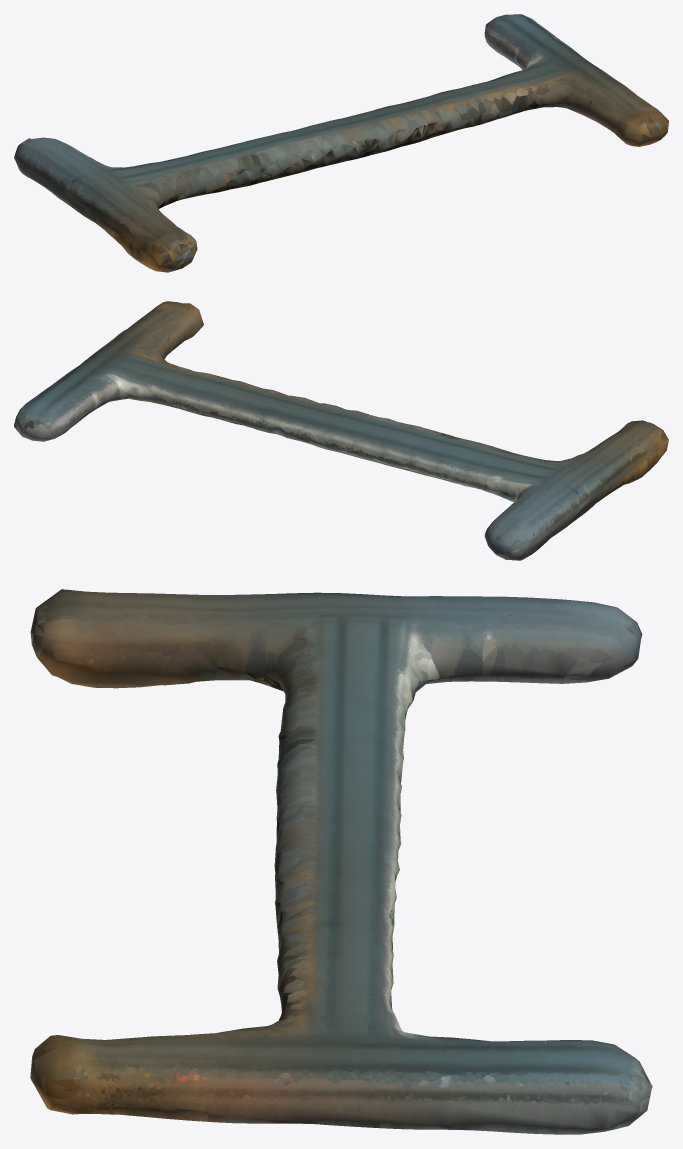
The picture shows the model from 3 angles, top to bottom: view 1: azimuth 30°, elevation 25°; view 2: azimuth 150°, elevation 25°; view 3: azimuth 270°, elevation 25°; orthographic projection. The views are drawn at different scales.
Visible parts, largest first — view 1: base_new.001; view 2: base_new.001; view 3: base_new.001.
Part boxes in pixels (x1,y1,x2,y2): base_new.001: (14, 14, 668, 272); base_new.001: (14, 301, 668, 560); base_new.001: (30, 589, 652, 1134).
Size of the model in its own units: 113 by 10.05 by 58.86.
Materials: 1 (1 with a texture image).
